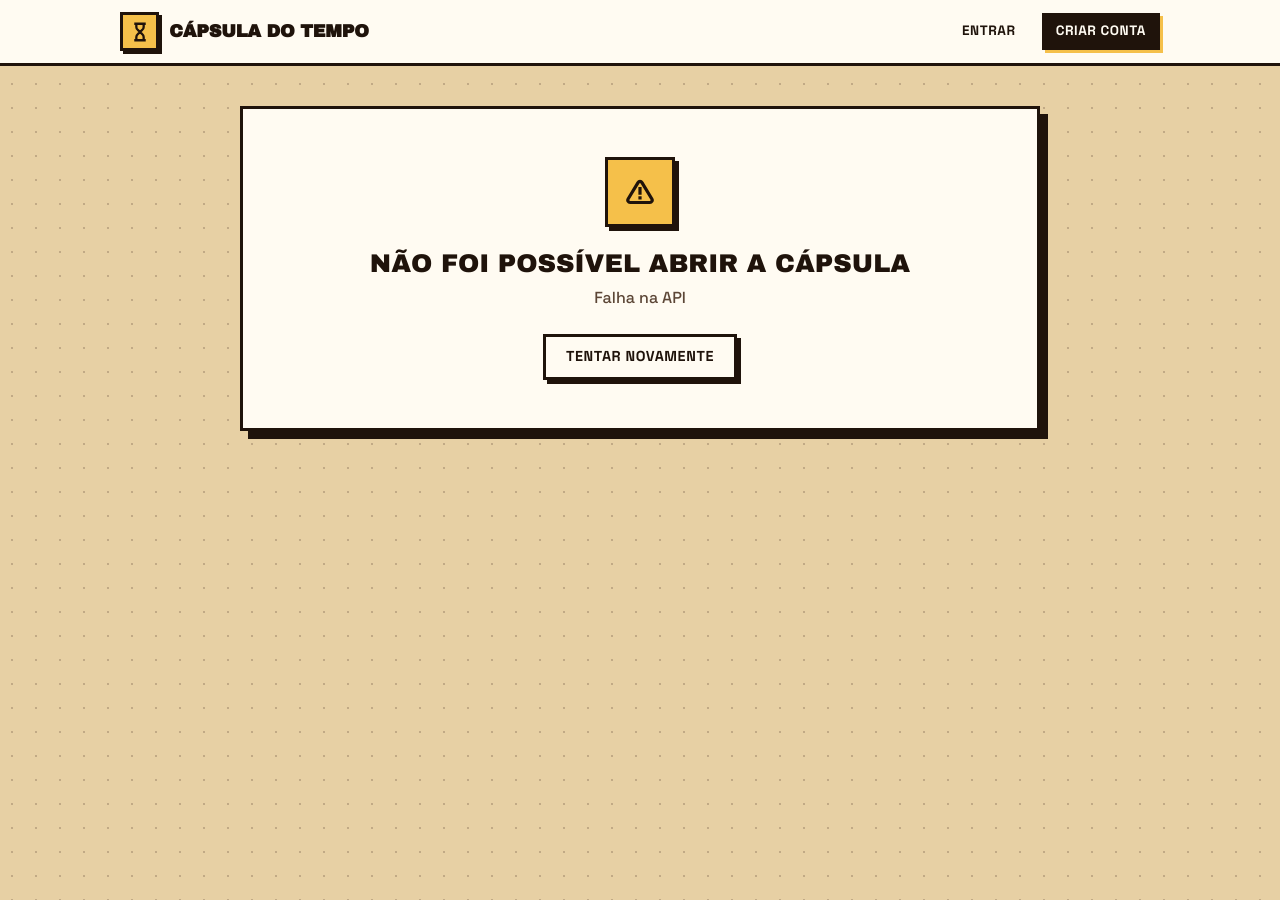
it: CapsulaPublicaPage (/c/:token) › offers a retry on unexpected failures and loads the capsule afterwards
Expected: the text "Falha na API" is shown, [594,286,686,310]
Step 1. Click the button "Tentar novamente" → (640, 357), box [543,334,737,380]
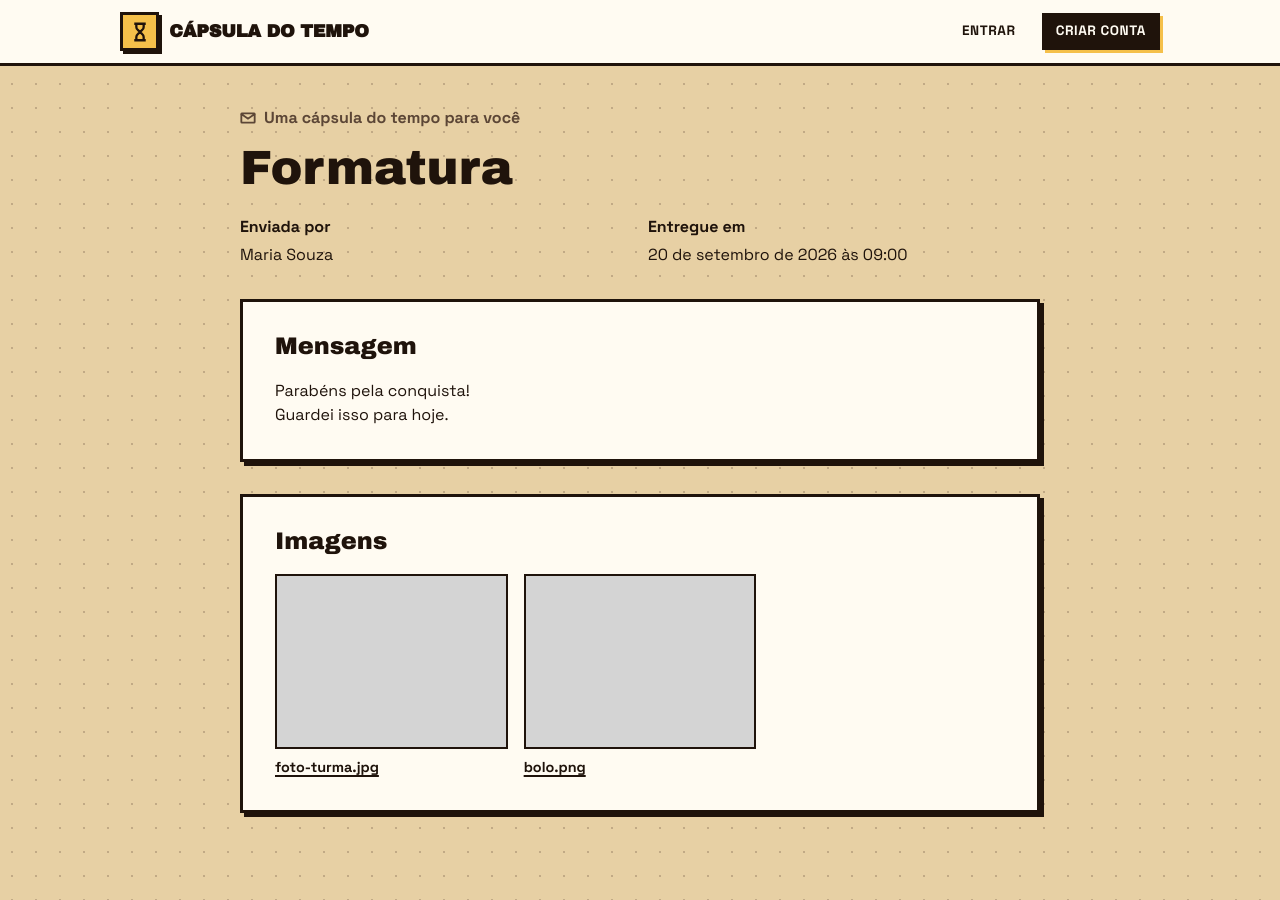
Expected: the heading "Formatura" is shown, [240,142,513,194]
